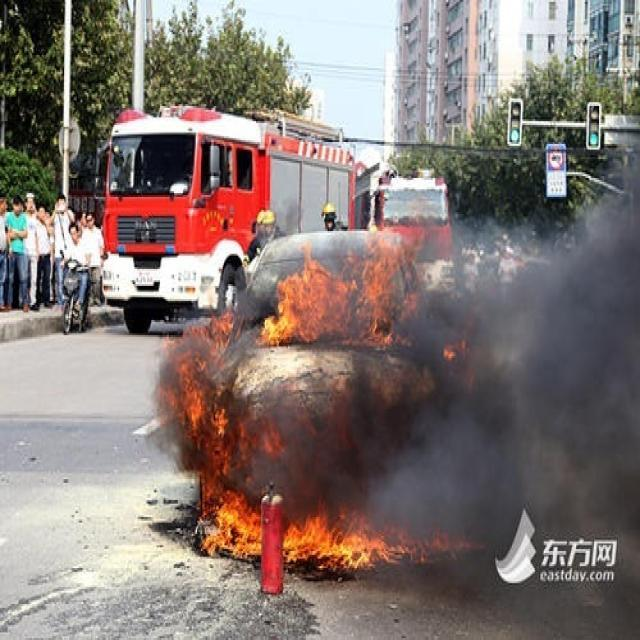Fire: (153, 220, 486, 570)
Smoke: (442, 154, 640, 542)
